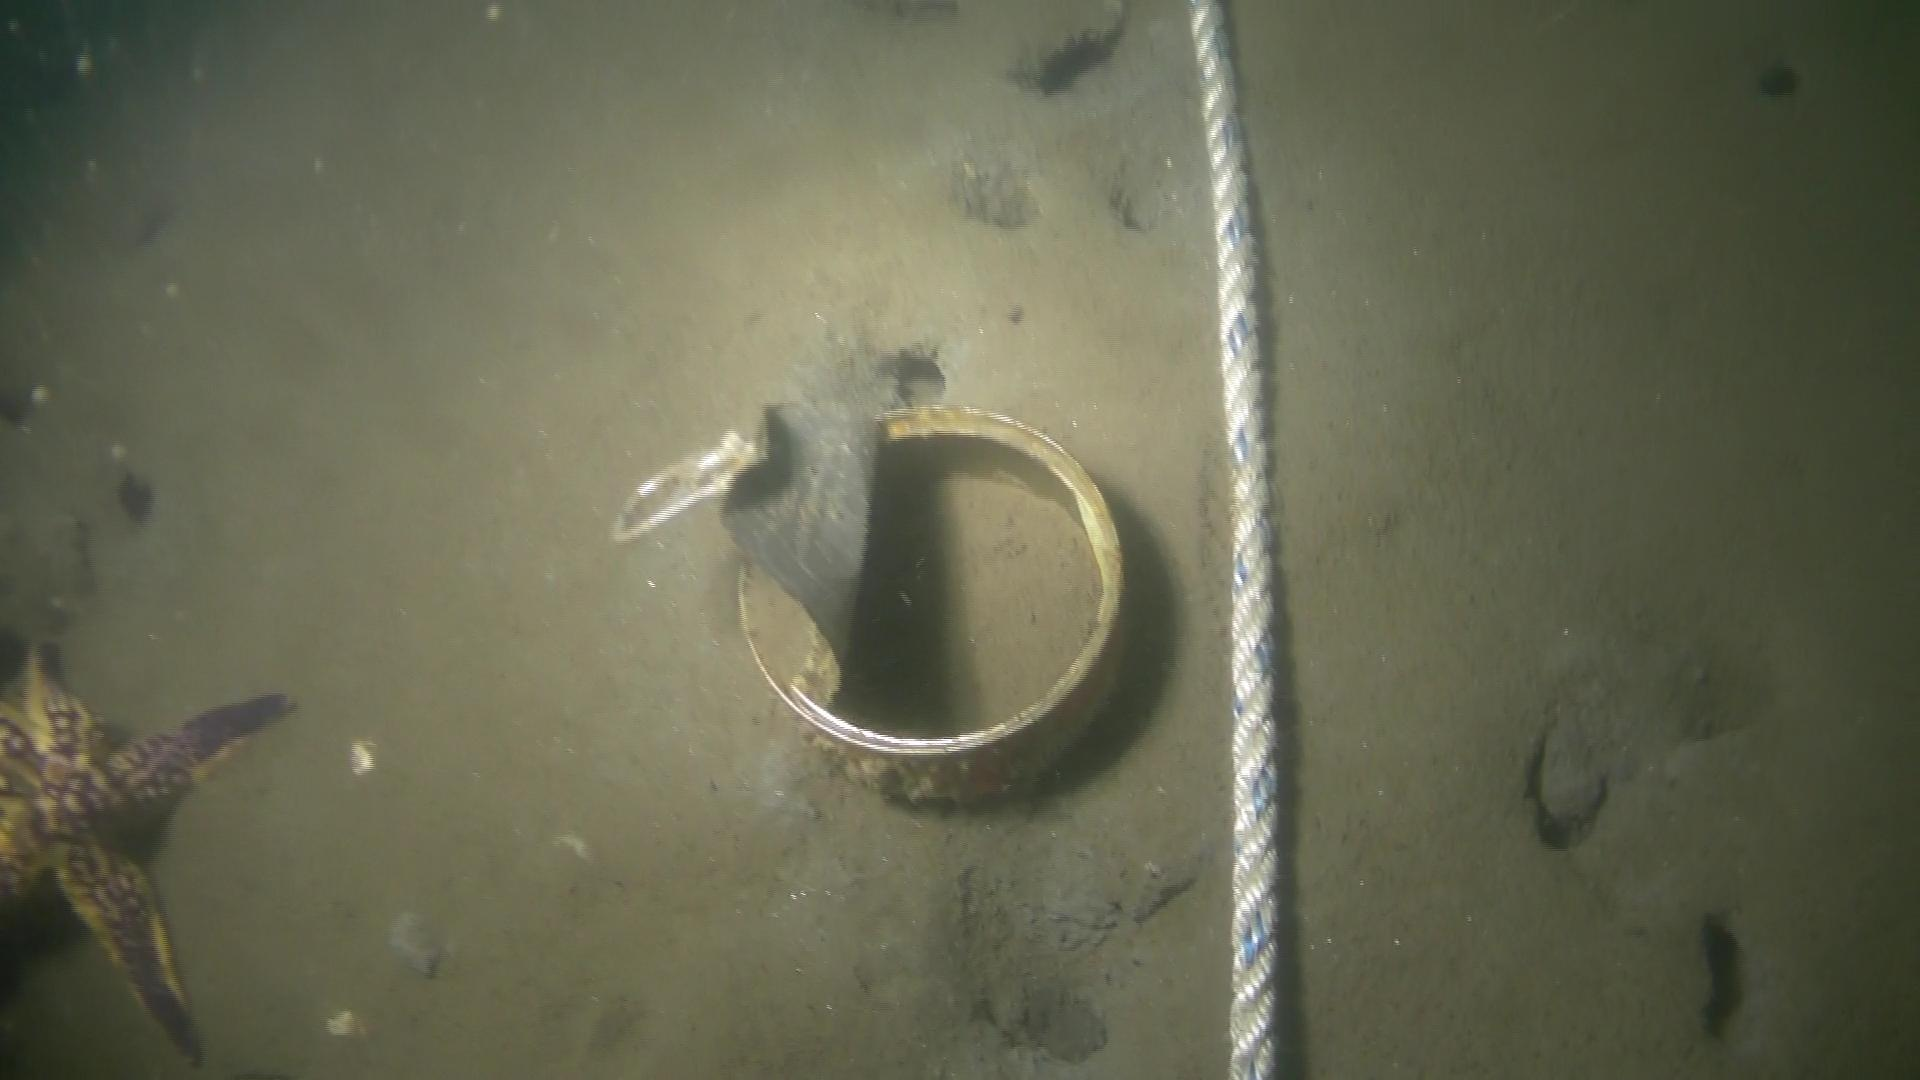rope: (1184, 0, 1286, 1080)
